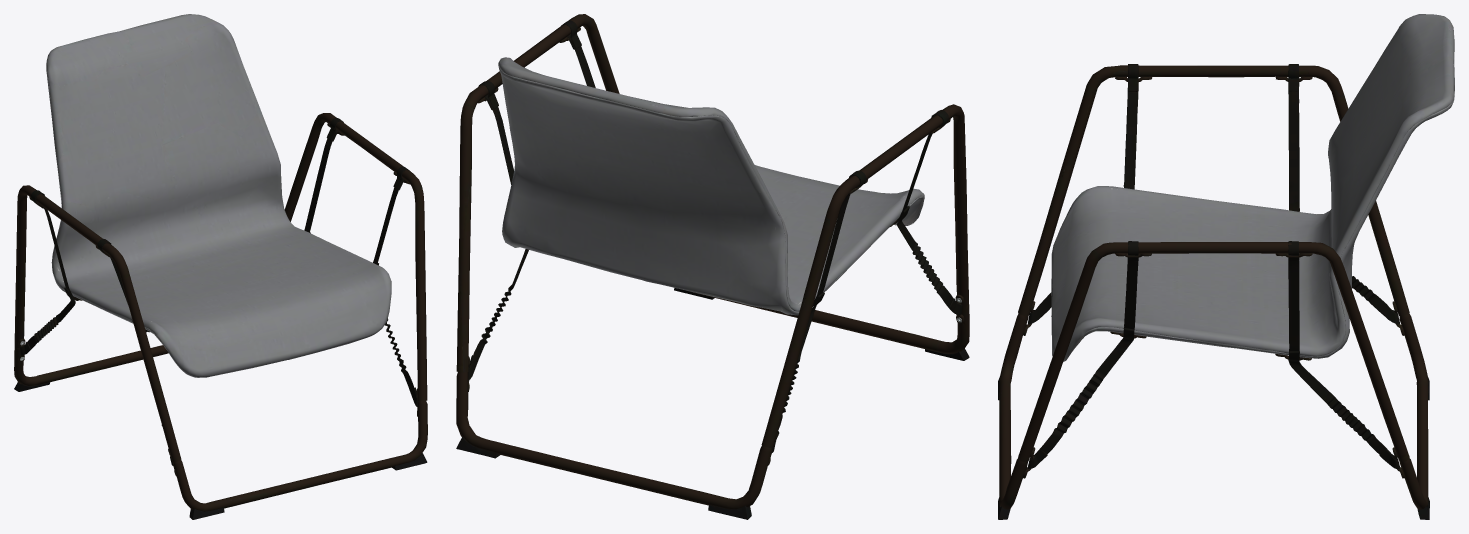
Rendered from ggg.glb.
3 views of the same model, side by side, from view 1: azimuth 30°, elevation 25°; view 2: azimuth 150°, elevation 25°; view 3: azimuth 270°, elevation 25° (orthographic). The views are drawn at different scales.
Parts seen in each view (by area): view 1: ASY_ART_00586336_S01_NV01; view 2: ASY_ART_00586336_S01_NV01; view 3: ASY_ART_00586336_S01_NV01.
Part boxes in pixels (x1,y1,x2,y2): ASY_ART_00586336_S01_NV01: (14,14,427,519); ASY_ART_00586336_S01_NV01: (456,14,969,519); ASY_ART_00586336_S01_NV01: (998,14,1454,519).
Bounding box in the file's own units: 0.8279 × 0.8309 × 0.876.
Materials: 1 (1 with a texture image).
